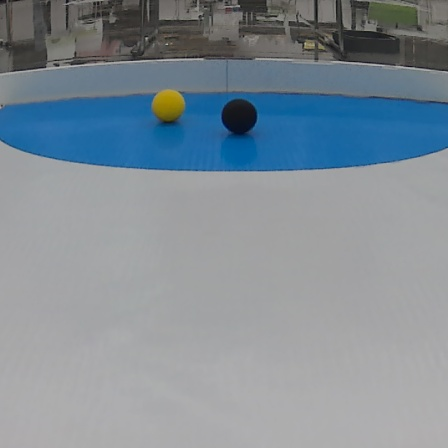black: (220, 99, 258, 134)
blue_base: (0, 91, 446, 173)
yellow: (151, 89, 184, 123)
